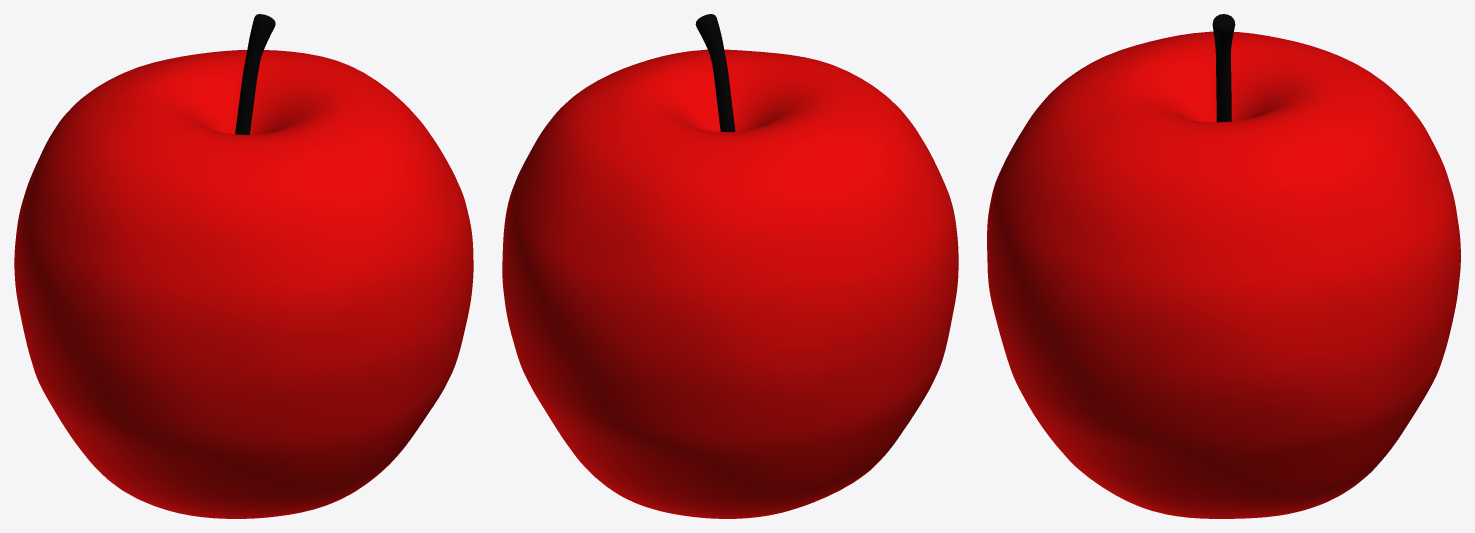
File: Apple.fbx
3 renders of one model, left to right at view 1: azimuth 30°, elevation 25°; view 2: azimuth 150°, elevation 25°; view 3: azimuth 270°, elevation 25°, orthographic. The views are drawn at different scales.
Visible parts, largest first — view 1: BottonPart, Vert.001; view 2: BottonPart, Vert.001; view 3: BottonPart, Vert.001.
Part boxes in pixels (x1=…): BottonPart: x1=14, y1=50, x2=473, y2=518; Vert.001: x1=235, y1=14, x2=275, y2=134; BottonPart: x1=502, y1=49, x2=958, y2=518; Vert.001: x1=695, y1=14, x2=735, y2=131; BottonPart: x1=987, y1=31, x2=1460, y2=518; Vert.001: x1=1212, y1=14, x2=1235, y2=122.
Bounding box in the file's own units: 349 × 391 × 348.
